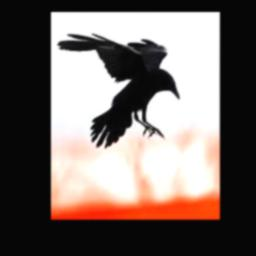Crow: (57, 32, 180, 148)
